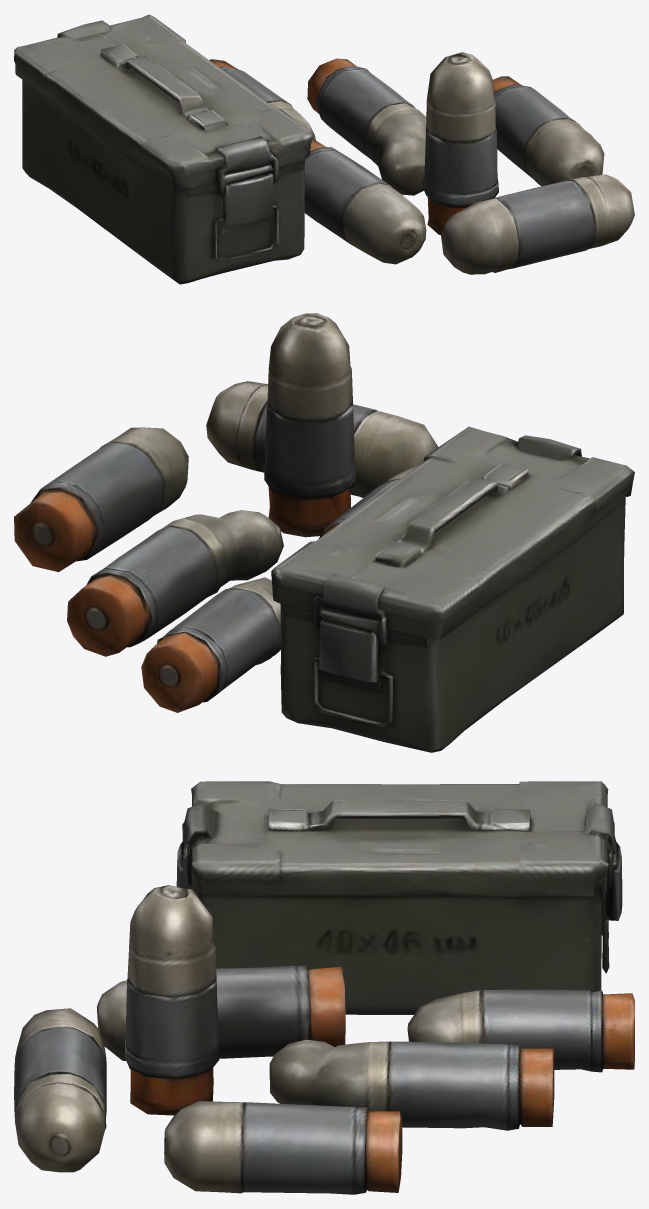
The picture shows the model from 3 angles, top to bottom: view 1: azimuth 30°, elevation 25°; view 2: azimuth 150°, elevation 25°; view 3: azimuth 270°, elevation 25°; orthographic projection. The views are drawn at different scales.
Parts seen in each view (by area): view 1: tripo_node_1fbab1fe-4fac-4ec4-a424-171ce073942f; view 2: tripo_node_1fbab1fe-4fac-4ec4-a424-171ce073942f; view 3: tripo_node_1fbab1fe-4fac-4ec4-a424-171ce073942f.
Part boxes in pixels (bbox=[...]): tripo_node_1fbab1fe-4fac-4ec4-a424-171ce073942f: bbox=[14, 14, 634, 284]; tripo_node_1fbab1fe-4fac-4ec4-a424-171ce073942f: bbox=[14, 313, 634, 752]; tripo_node_1fbab1fe-4fac-4ec4-a424-171ce073942f: bbox=[14, 781, 634, 1194].
Bounding box in the file's own units: 1 × 0.3886 × 0.9768.
1 material, 1 textured.
